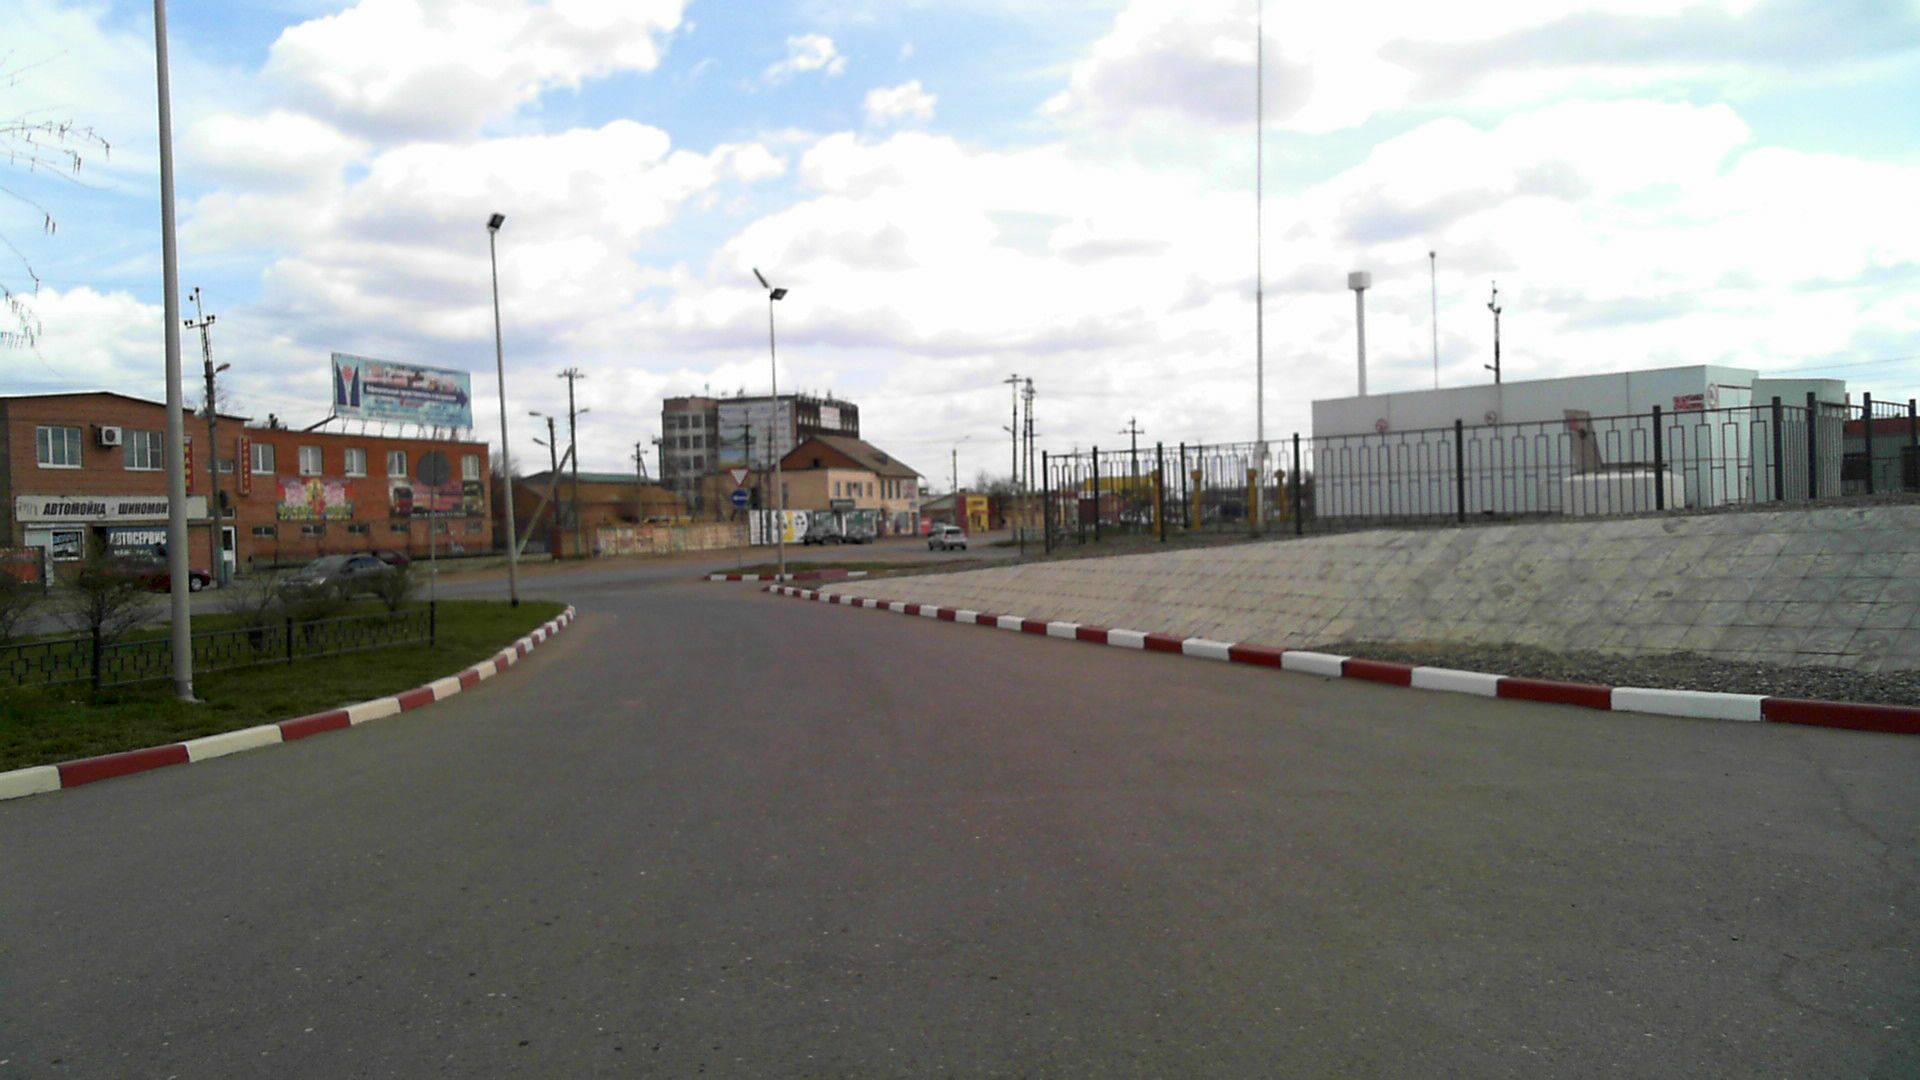Turn Left: (731, 491, 748, 505)
